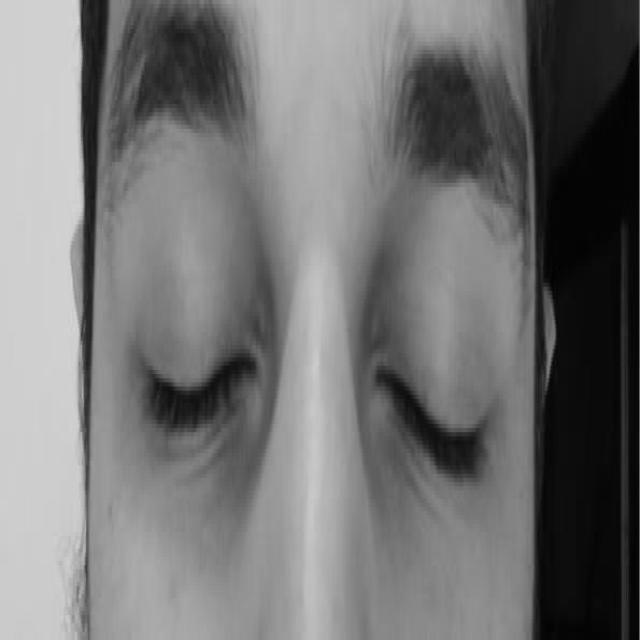real: (112, 210, 514, 528)
